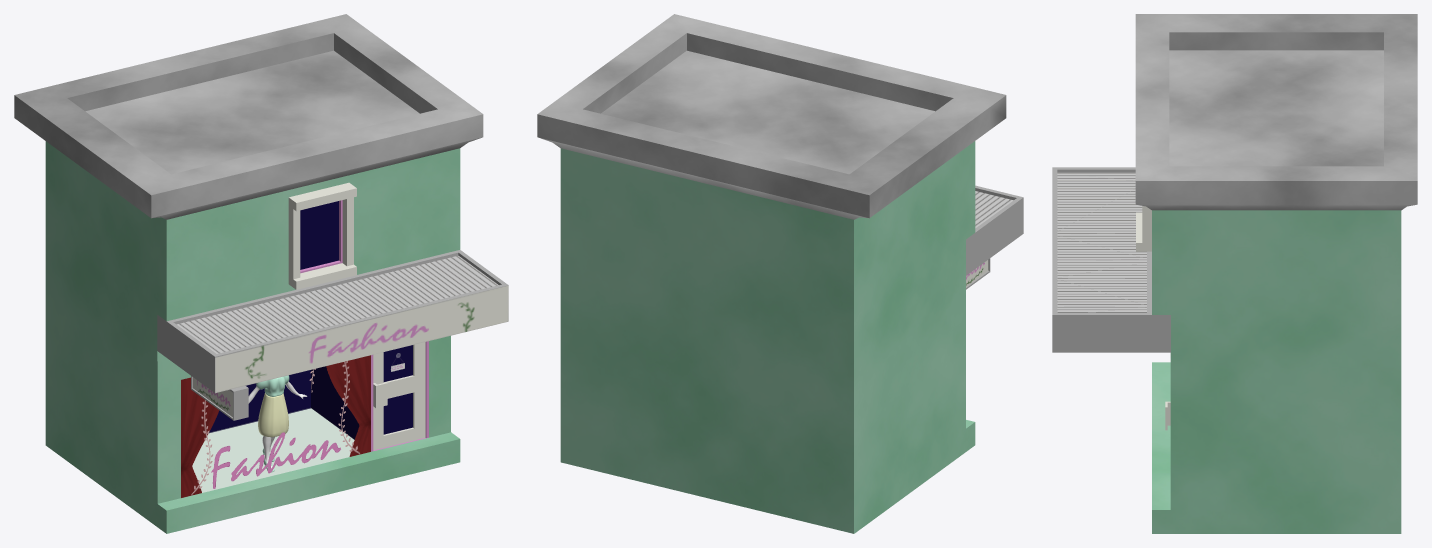
File: FashionBuilding.FBX
3 renders of one model, left to right at view 1: azimuth 30°, elevation 25°; view 2: azimuth 150°, elevation 25°; view 3: azimuth 270°, elevation 25°, orthographic. The views are drawn at different scales.
Visible parts, largest first — view 1: Box001, mirror, Box003, Box002; view 2: Box001; view 3: Box001.
Boxes of the visible parts, x1=… form: Box001: x1=14, y1=14, x2=508, y2=533; mirror: x1=181, y1=355, x2=370, y2=497; Box003: x1=248, y1=375, x2=307, y2=472; Box002: x1=191, y1=376, x2=248, y2=420; Box001: x1=537, y1=14, x2=1023, y2=533; Box001: x1=1052, y1=14, x2=1417, y2=533.
Bounding box in the file's own units: 624 × 628 × 577.
4 materials, 4 textured.
